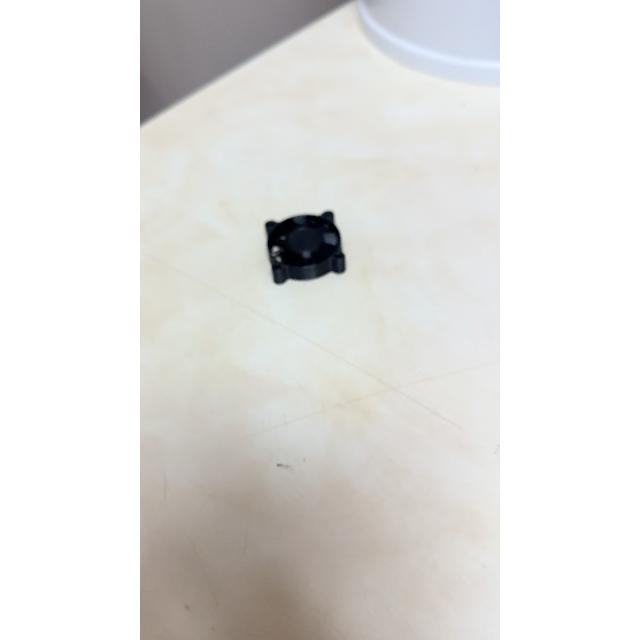Pieza_4: (235, 195, 361, 295)
